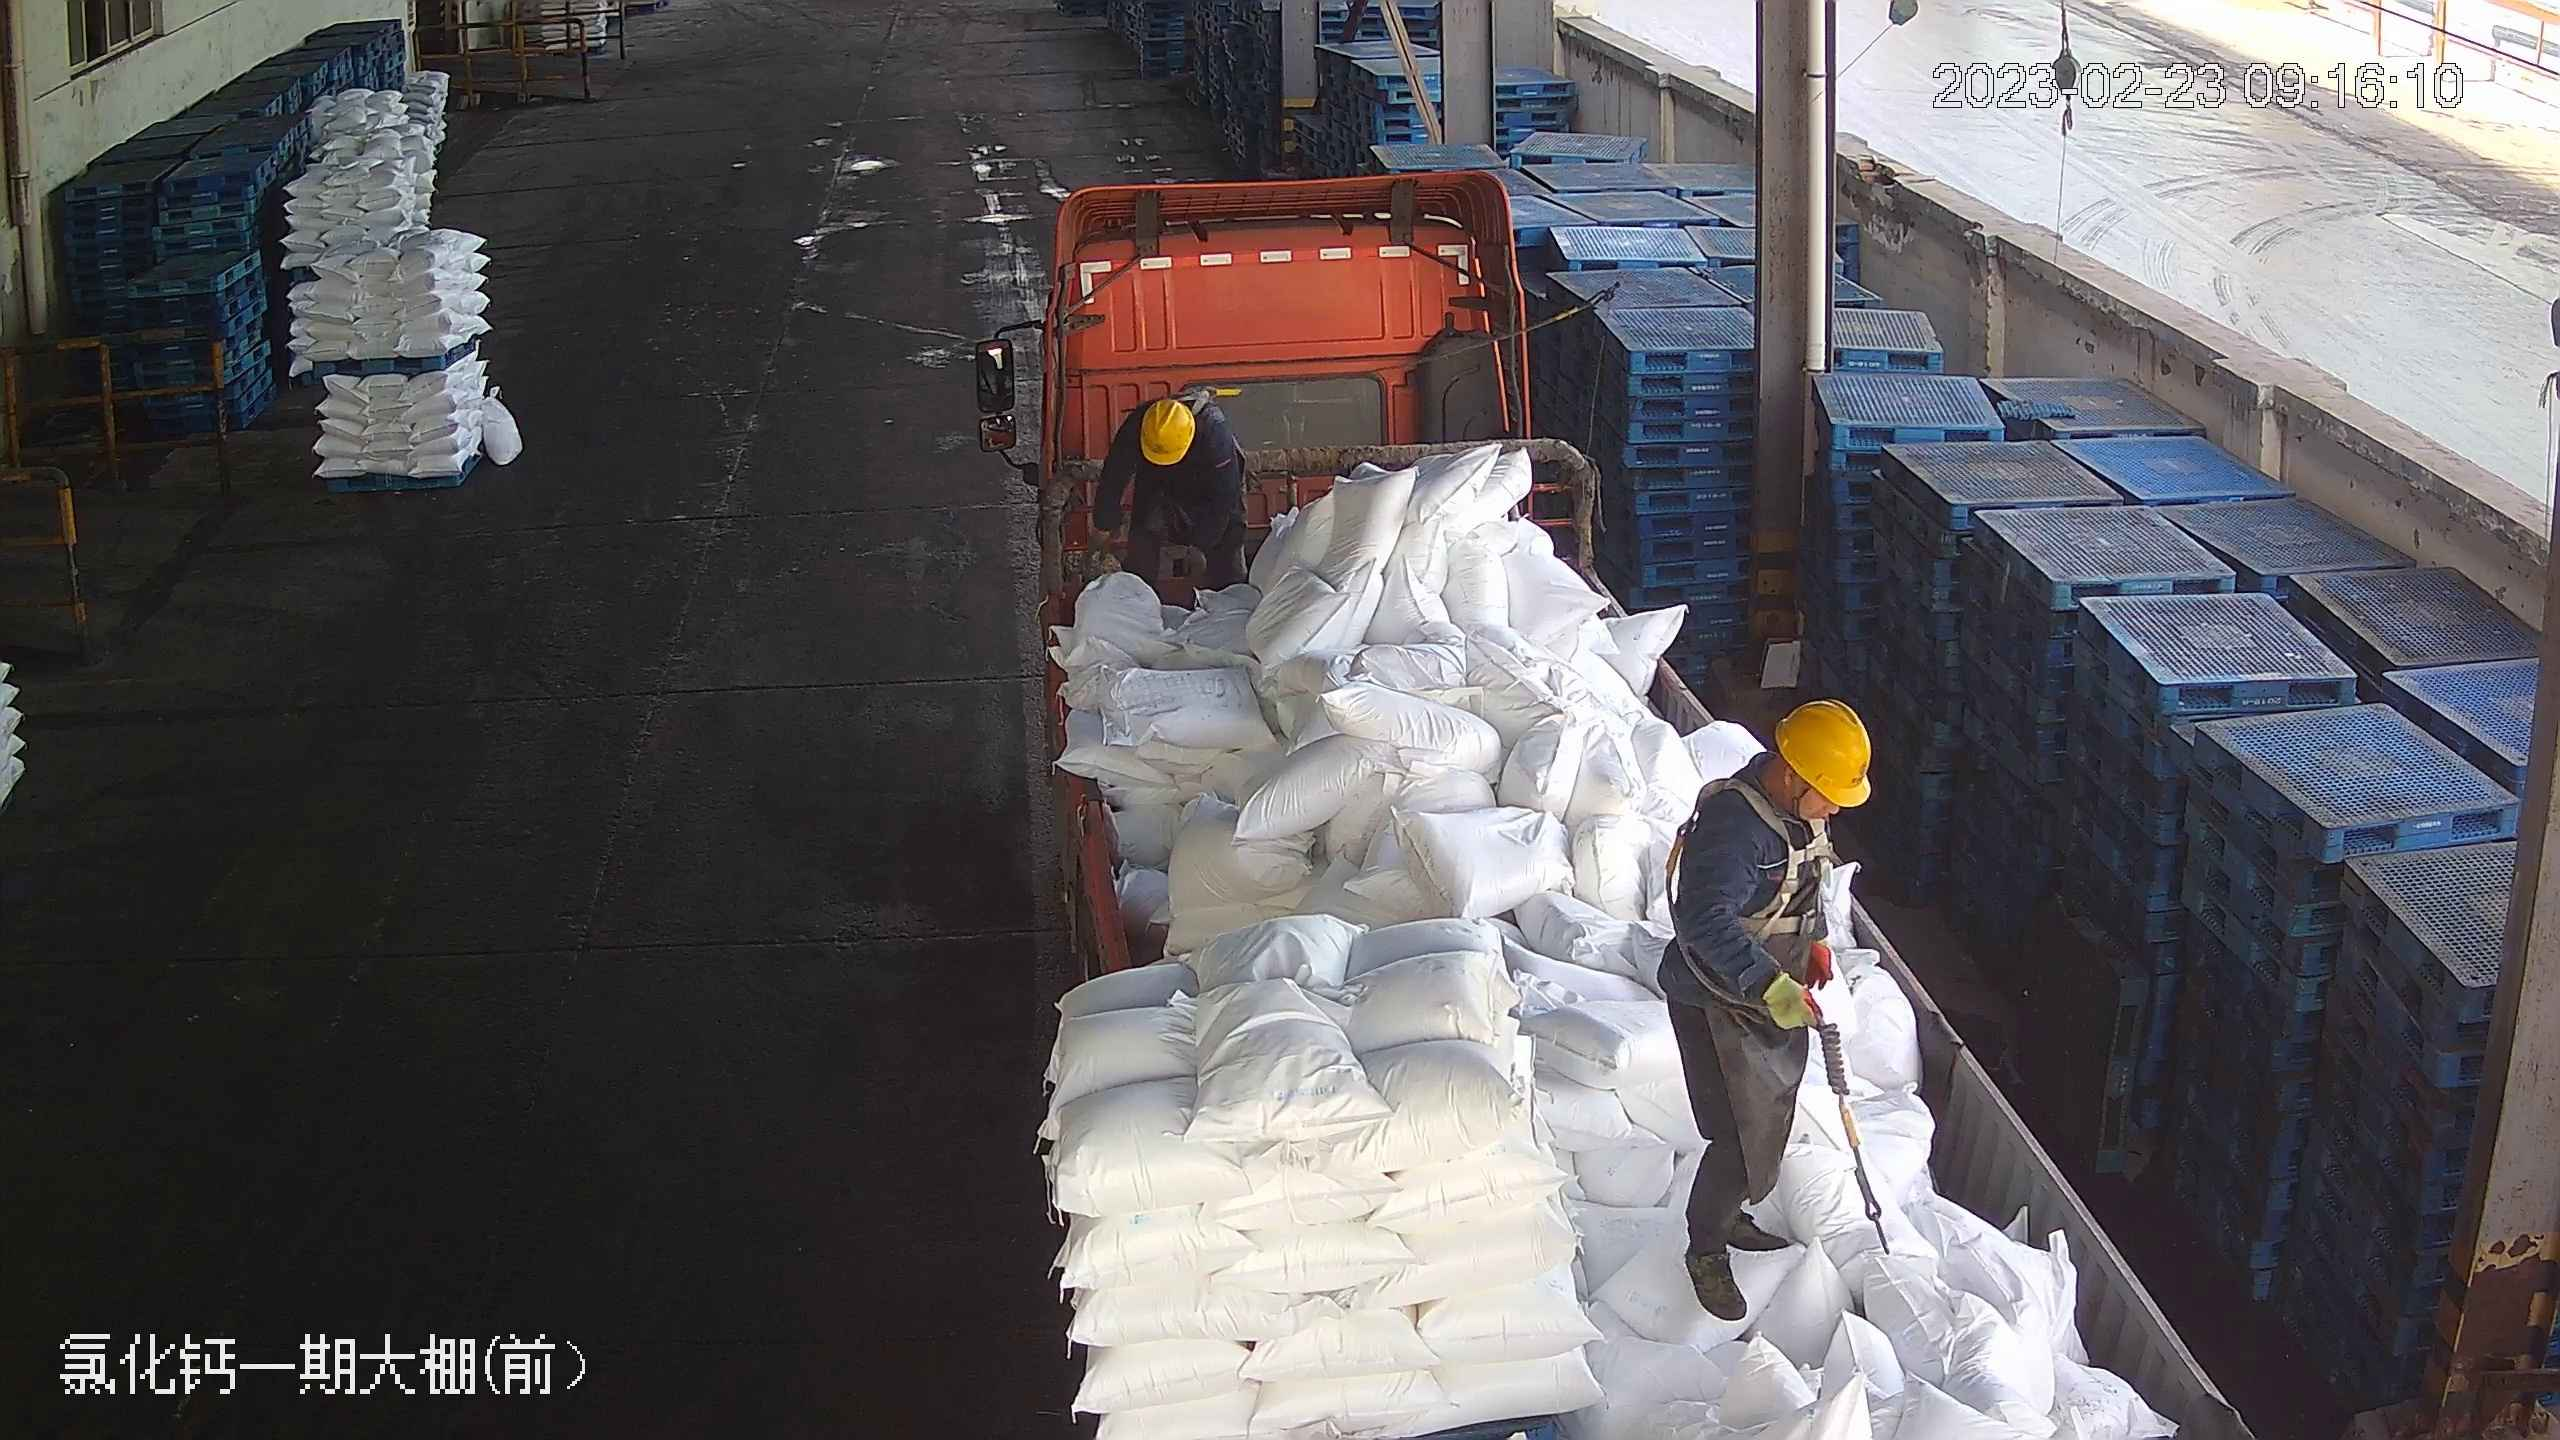belt: (1651, 700, 1872, 1302), (1651, 779, 1839, 947), (1181, 380, 1259, 433)
head: (1684, 698, 1872, 881), (1123, 389, 1247, 479)
helmet: (1772, 696, 1875, 805), (1137, 395, 1196, 464)
people: (1652, 693, 1870, 1323), (1089, 391, 1261, 607)
truck: (980, 164, 2262, 1428)
